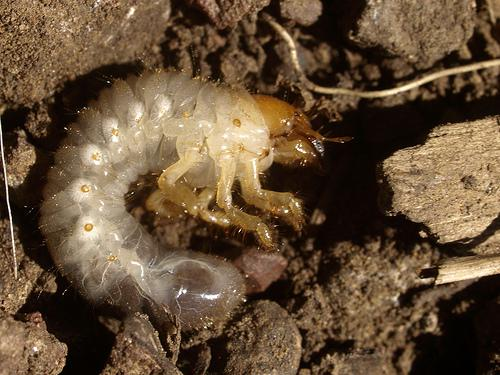grub: (47, 77, 320, 351)
